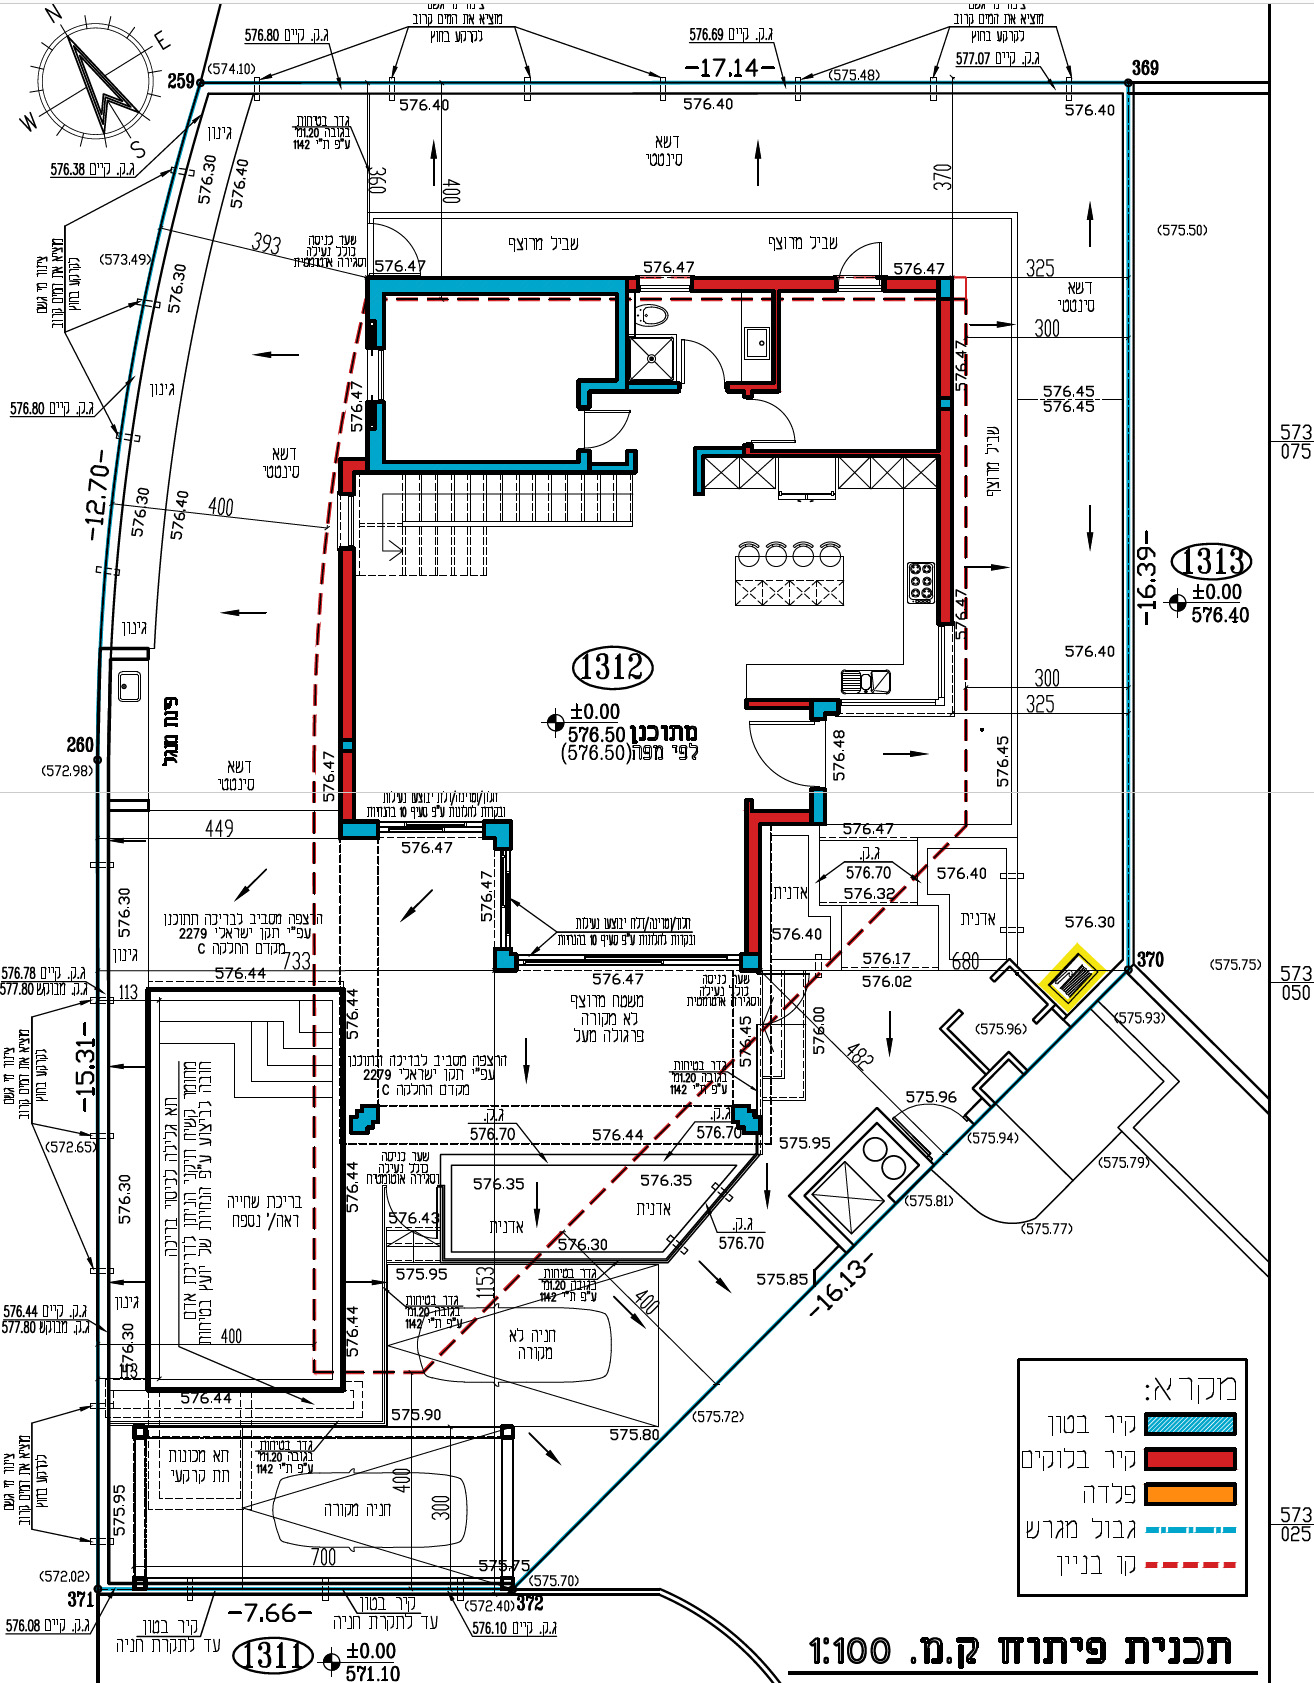door: (736, 713, 806, 796), (754, 393, 807, 444), (677, 333, 728, 377), (590, 406, 632, 449), (835, 239, 886, 272)
wall: (370, 281, 619, 290), (942, 415, 951, 619), (479, 816, 519, 850), (344, 556, 351, 734), (374, 463, 581, 469), (750, 813, 757, 952), (346, 826, 373, 833)
